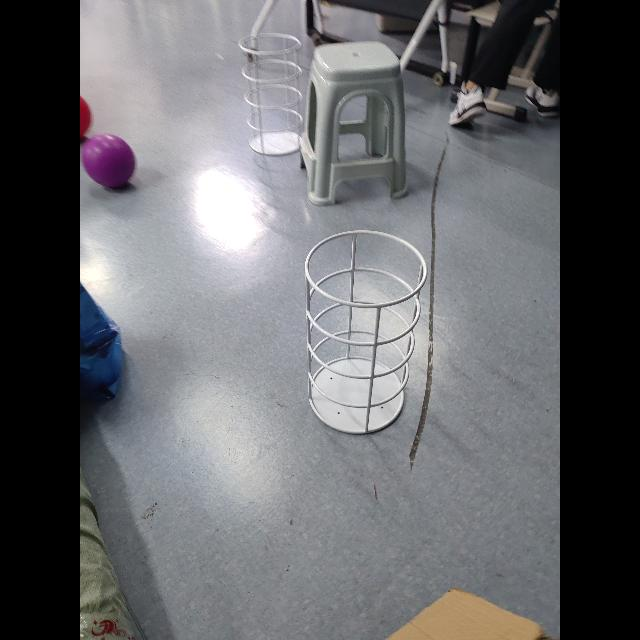S: (302, 230, 428, 438)
